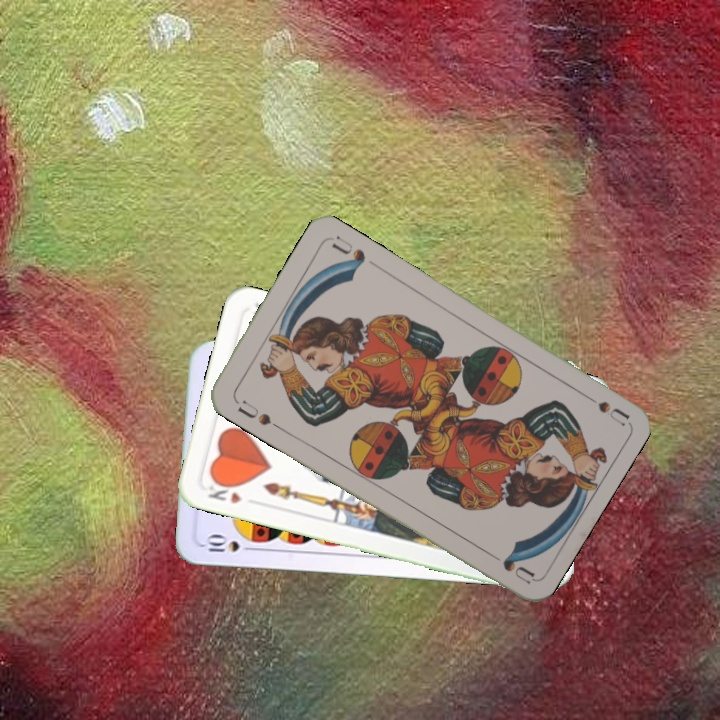HK: (204, 476, 244, 506)
S10: (199, 533, 258, 555)
SU: (575, 387, 631, 428), (233, 395, 284, 432)
